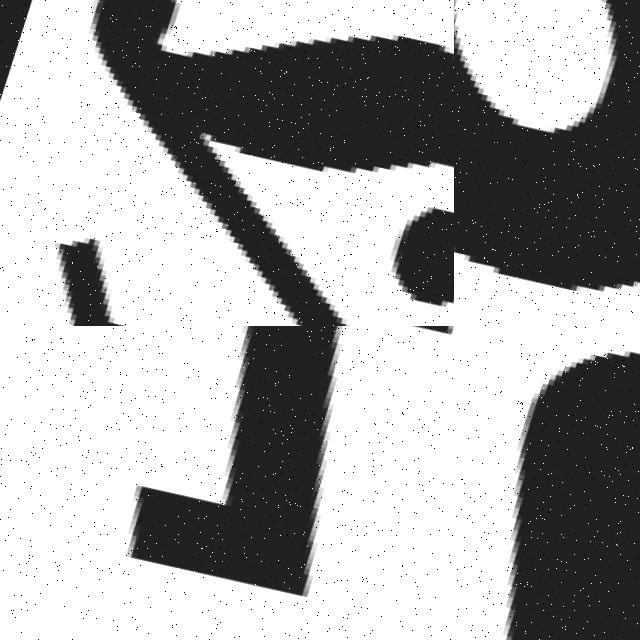I: (0, 326, 454, 640)
O: (454, 0, 640, 326)
T: (454, 326, 640, 640)
Z: (0, 0, 454, 326)
